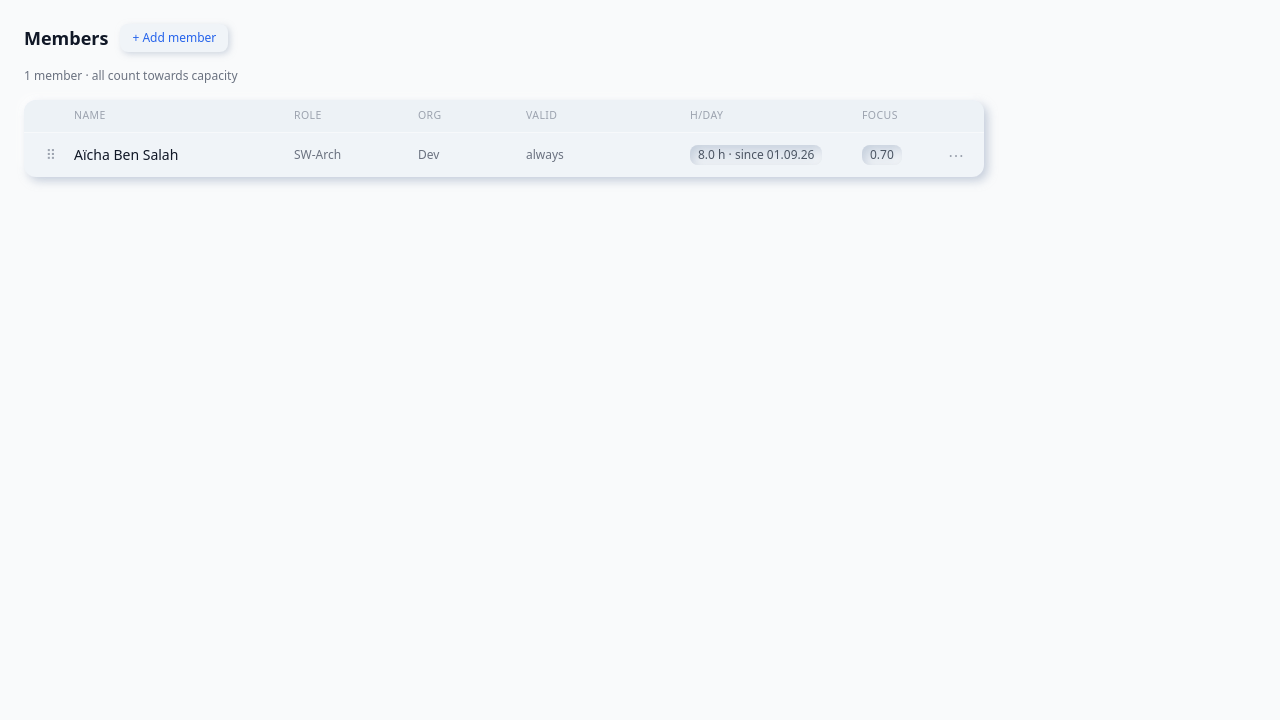
Test case: TeamMembersView › names what a removal takes with it, and the alternative
What coordinates should you click on to do the following:
click the button named "Actions for Aïcha Ben Salah"
I would click on:
 (956, 155)
Its box is [944,143,968,167].
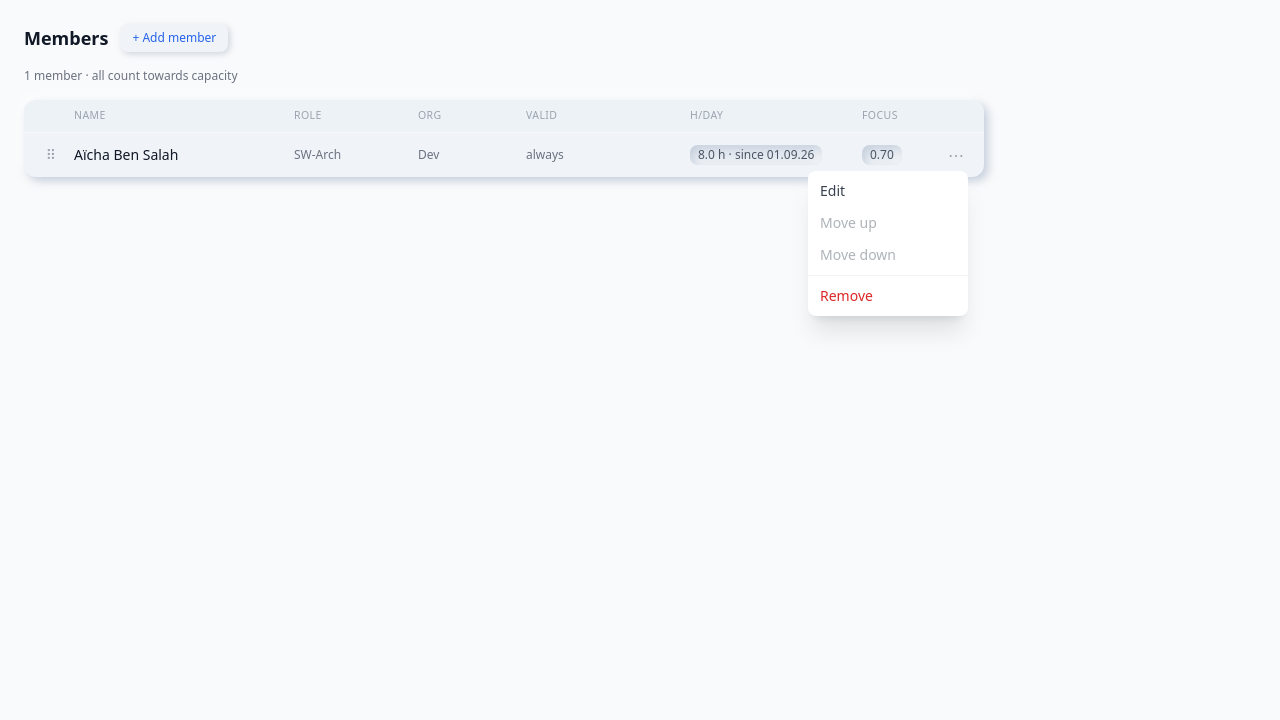
What coordinates should you click on to do the following:
click the menu item "Remove"
I would click on:
 (846, 296)
Its box is [820,286,873,305].
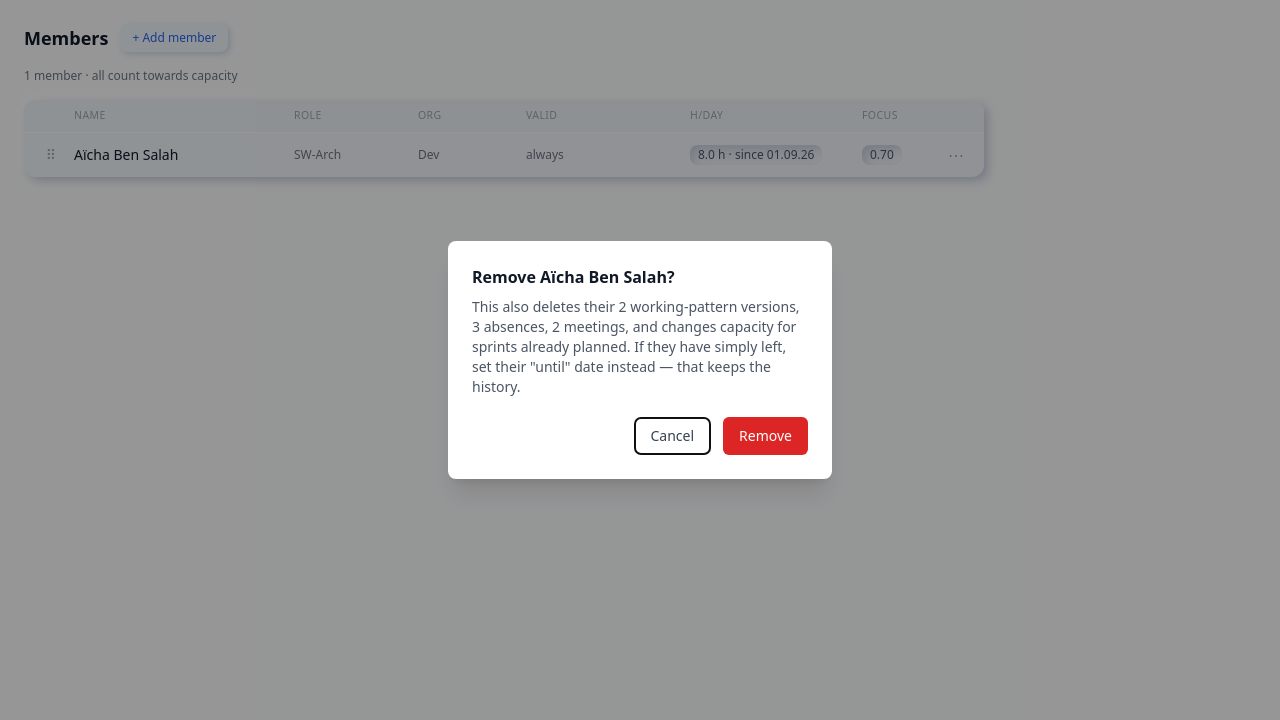
Result: the text "\"until\" date instead" is shown at [472,297,800,396]
